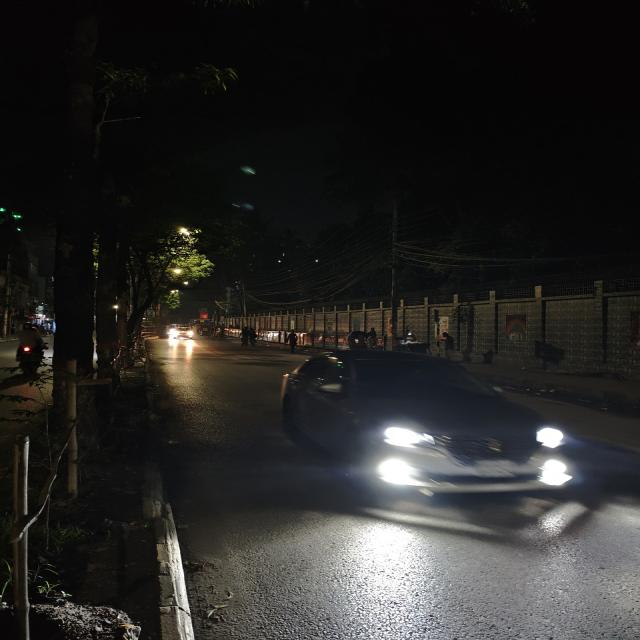car: (267, 344, 574, 511), (166, 323, 196, 339)
motorcycle: (12, 326, 48, 370)
pedestrian: (238, 326, 260, 348), (283, 330, 302, 354)
rickshaw: (341, 329, 373, 351)
